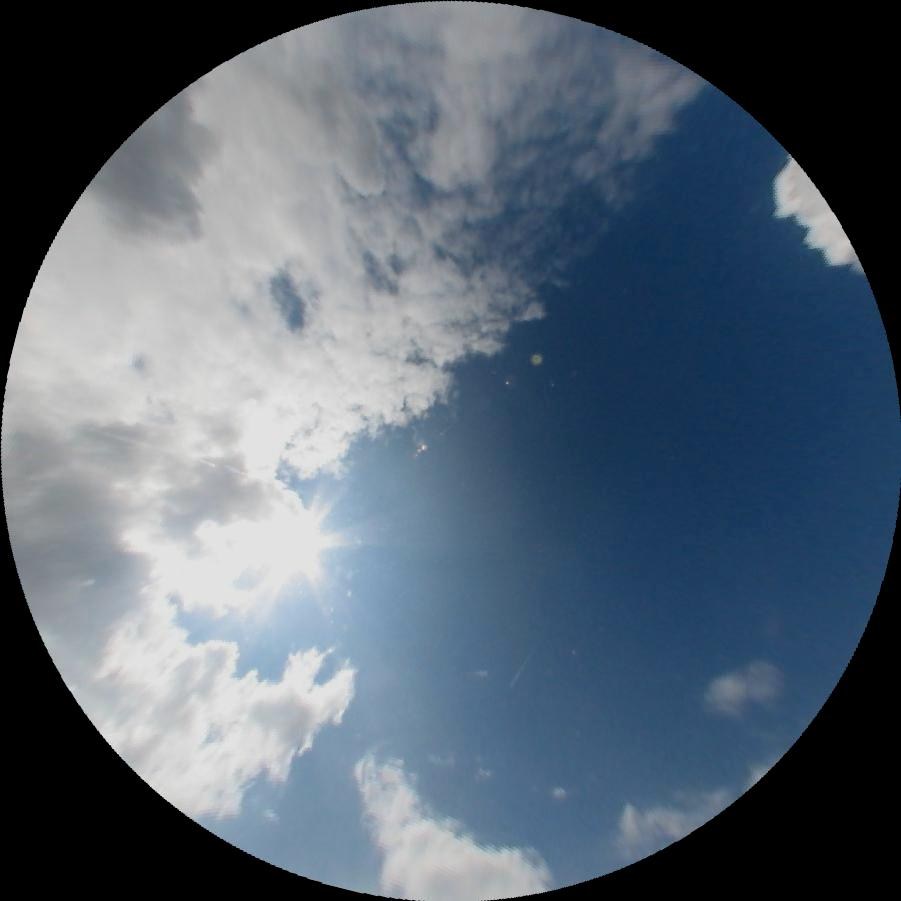contrail young: (508, 645, 535, 688)
parasite: (64, 418, 285, 487)
sun: (256, 509, 324, 573)
